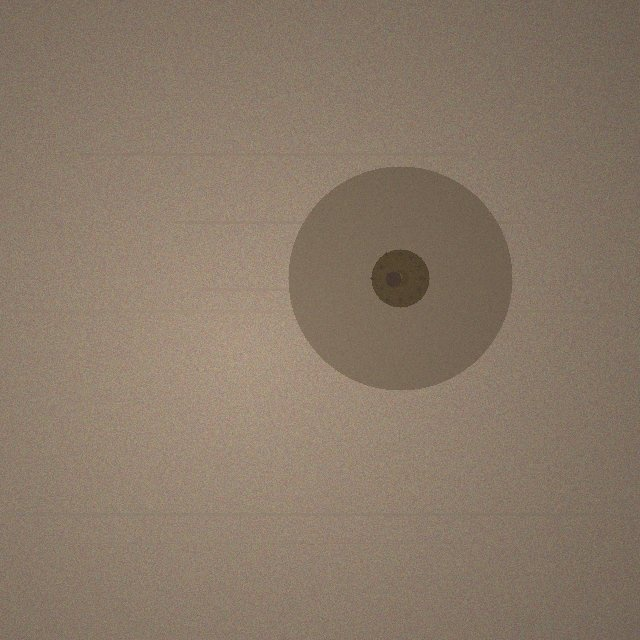cold_weld: (288, 166, 512, 390)
